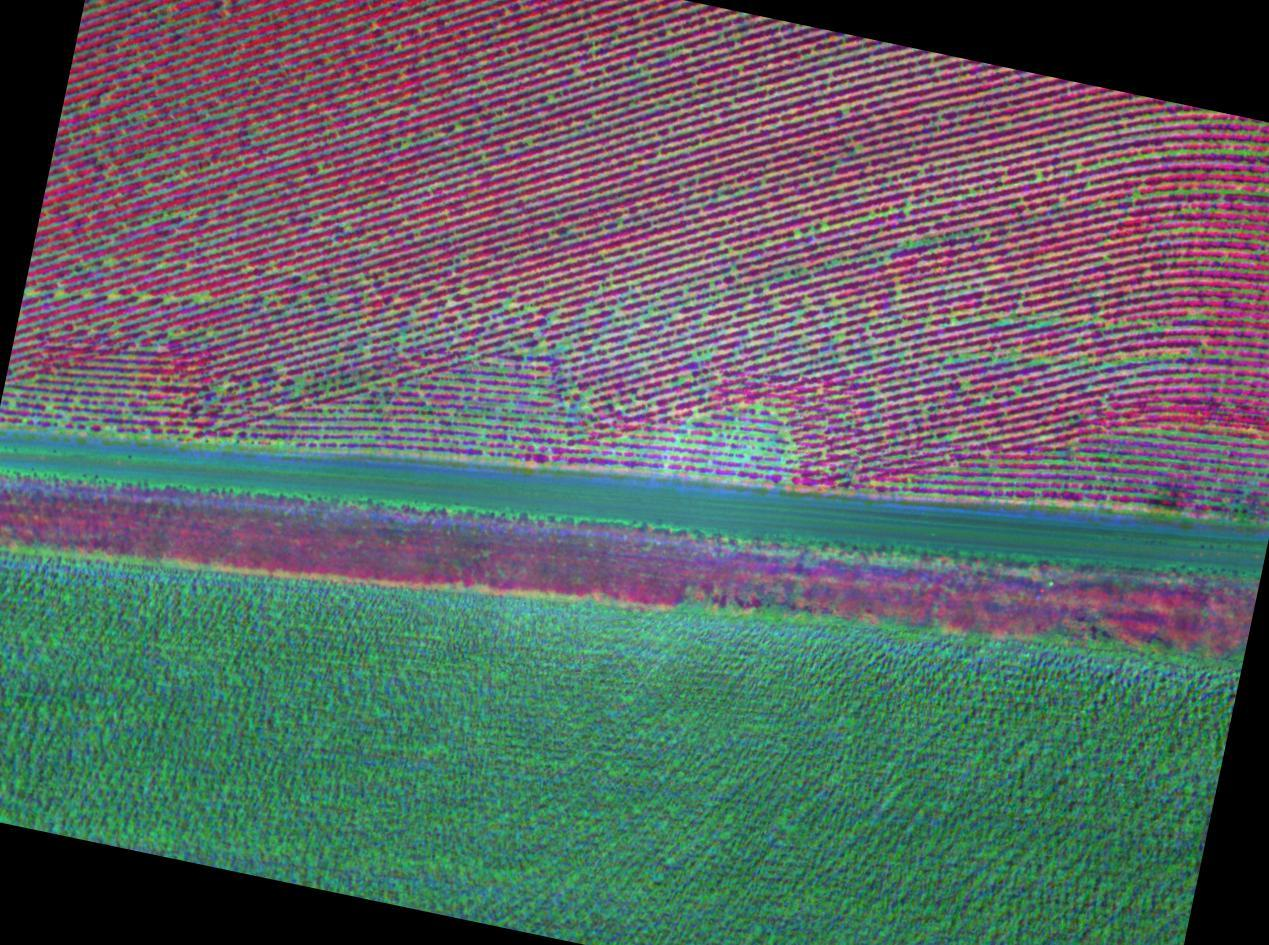dc: (277, 443, 283, 450), (197, 296, 203, 301), (523, 350, 528, 355), (531, 389, 535, 394), (297, 378, 301, 382), (507, 302, 510, 306)
